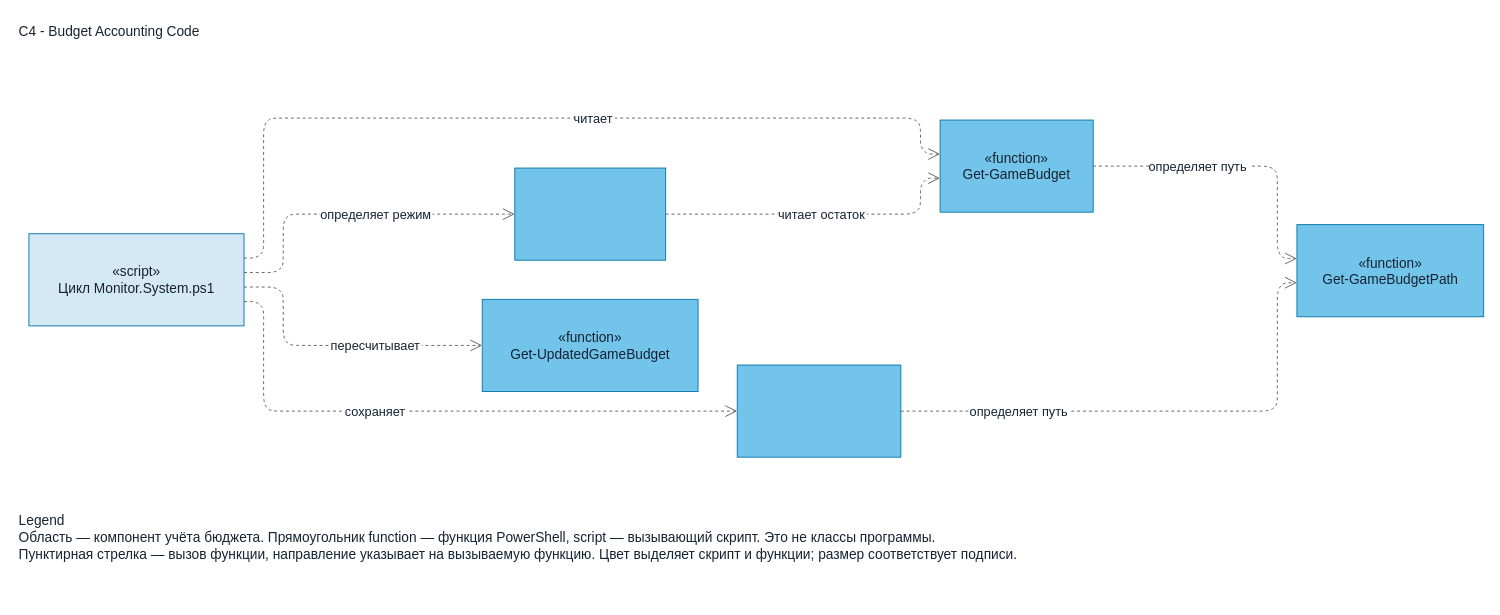
Some shapes in this 1500 by 615 pixel diagram are drawn without their labels. Here are the shapes that lost their labels. From the top down, the centre of each, then its label:
the point at 590,213: «function» Get-MonitorState
the point at 818,410: «function» Save-GameBudget
